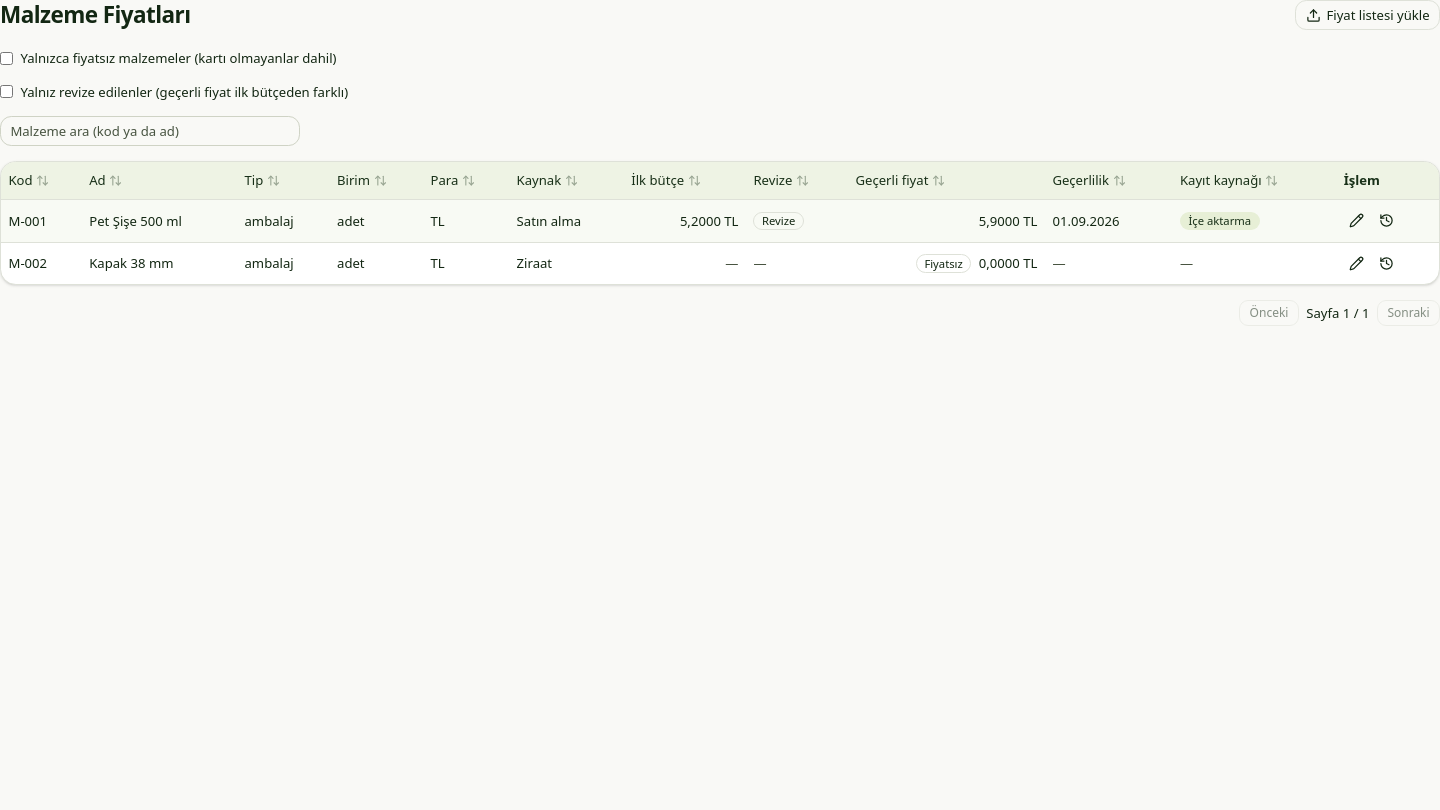
Test: MalzemeFiyatlari › neden boşsa fiyat gönderilmez
Step 1. Click the button named "Fiyat değiştir M-001" → (1357, 221), box [1344, 208, 1370, 234]
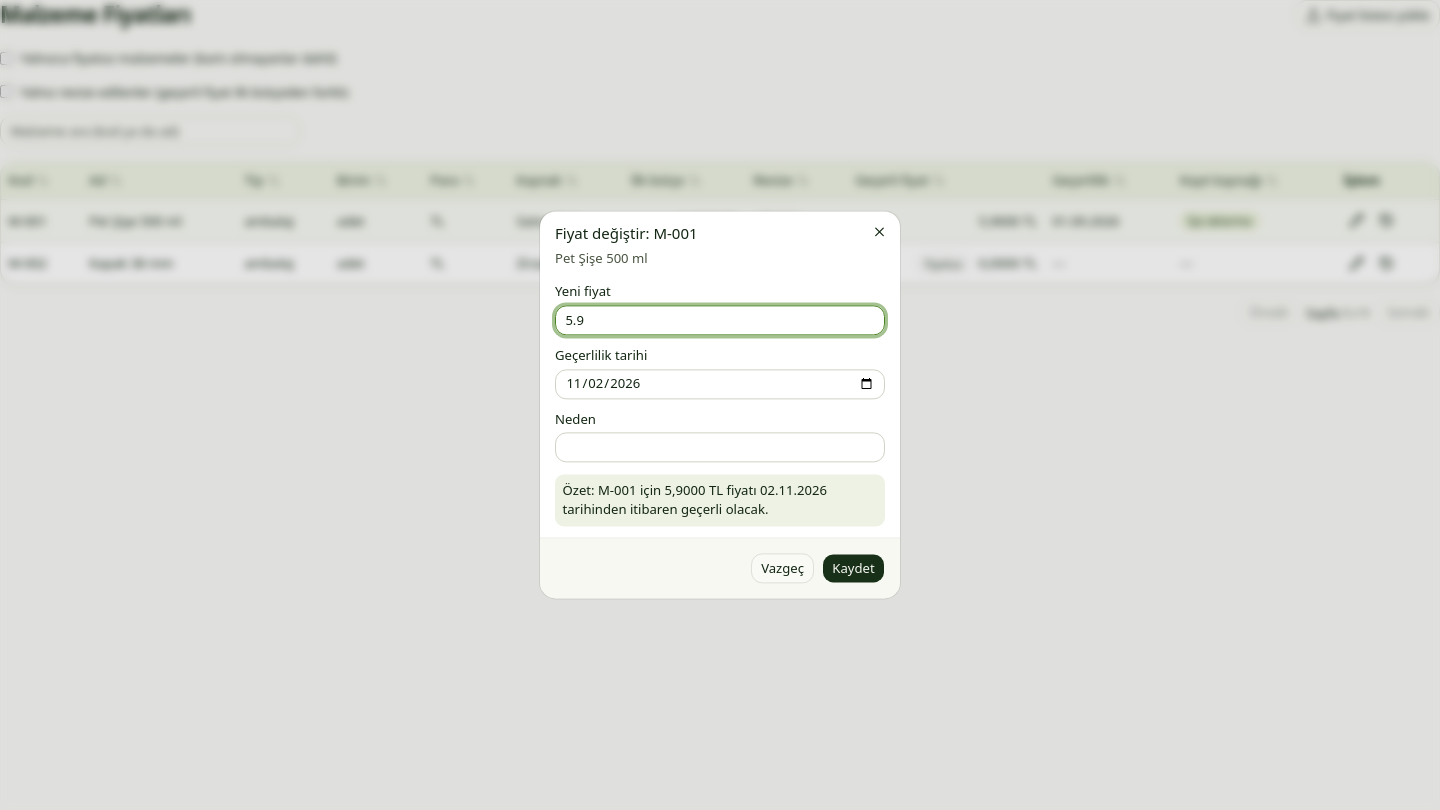
Step 2. Clear the field labelled "Yeni fiyat" → (720, 320), box [555, 305, 885, 335]
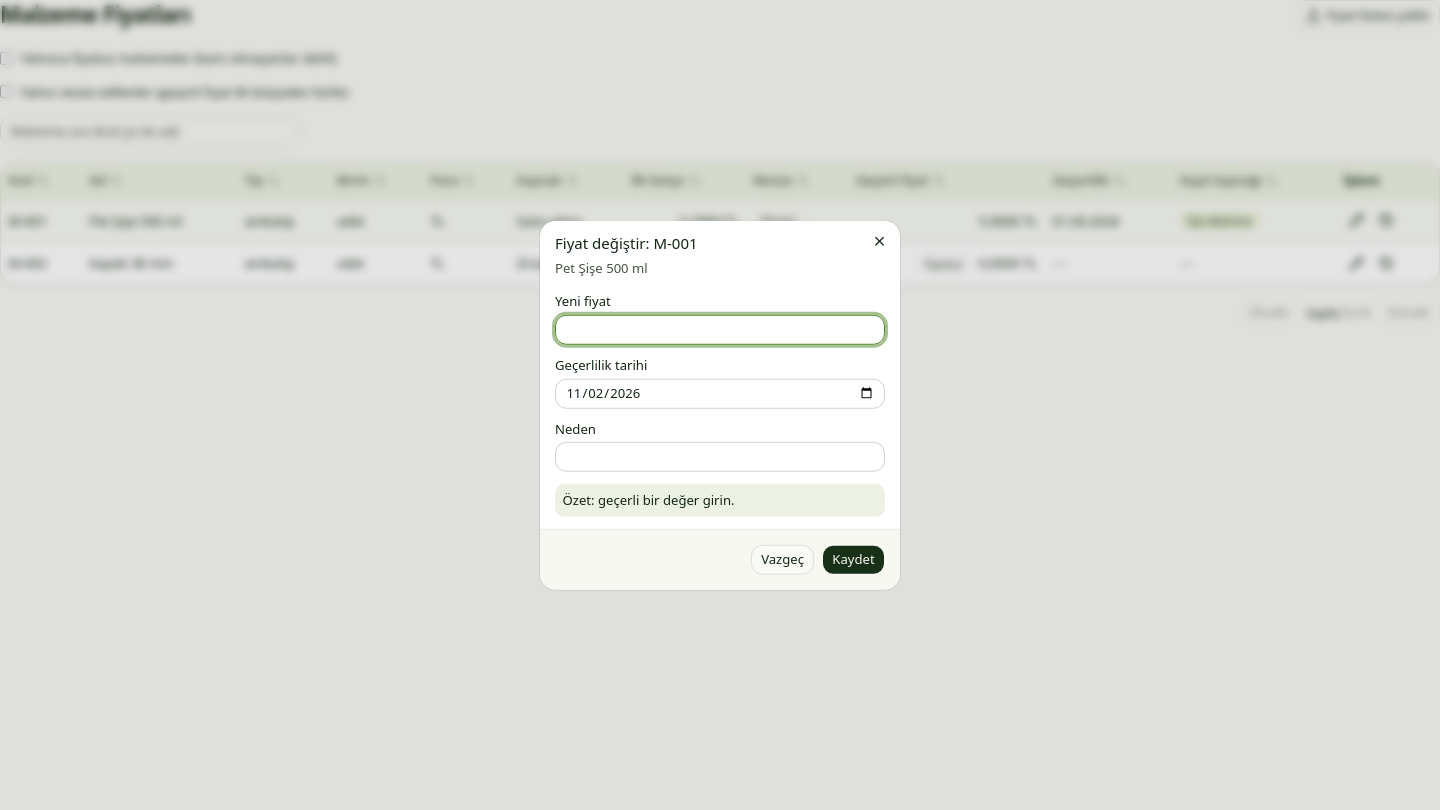
Step 3. Type "6,5" into the field labelled "Yeni fiyat" → (720, 330), box [555, 314, 885, 344]
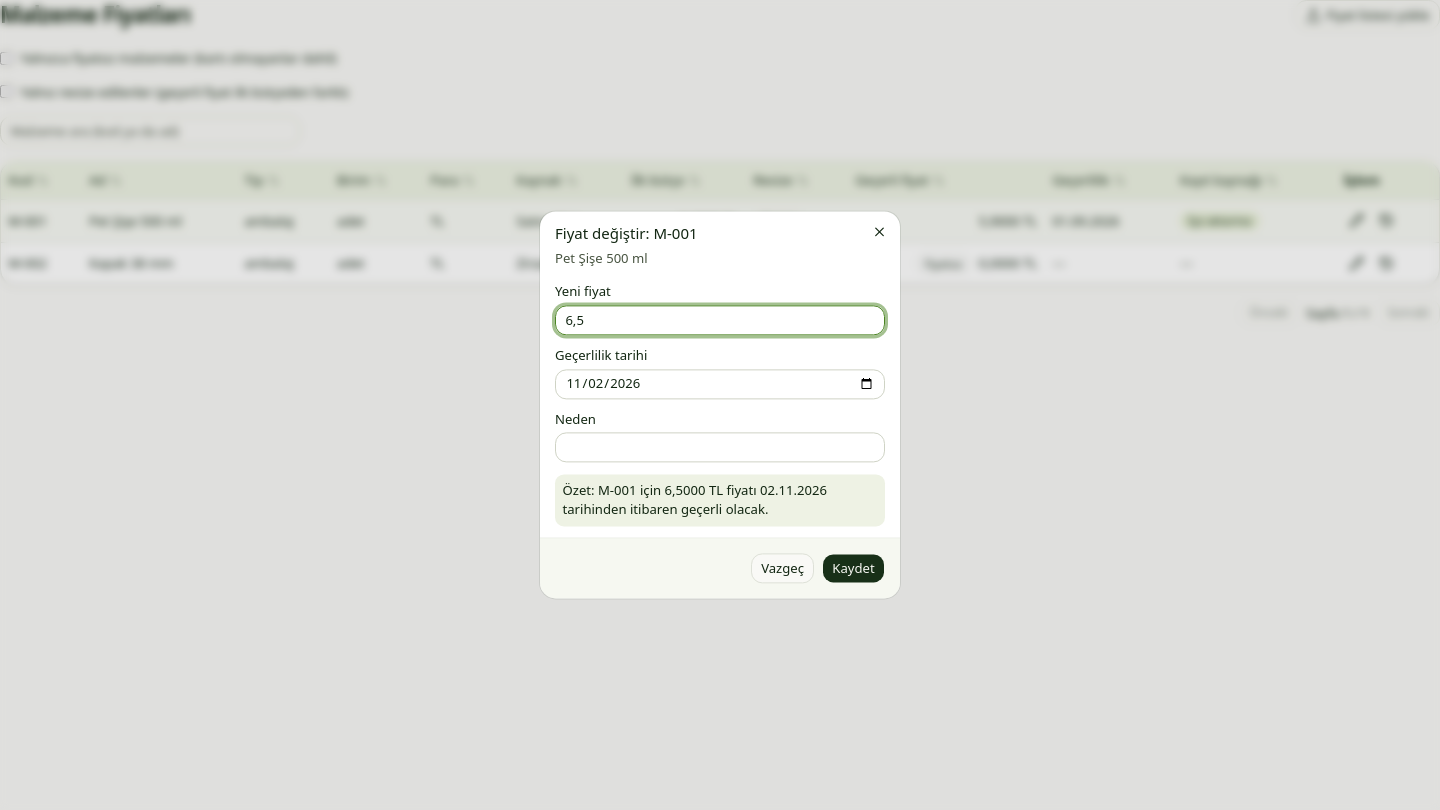
Step 4. Click the button "Kaydet" → (853, 569), box [822, 554, 885, 584]
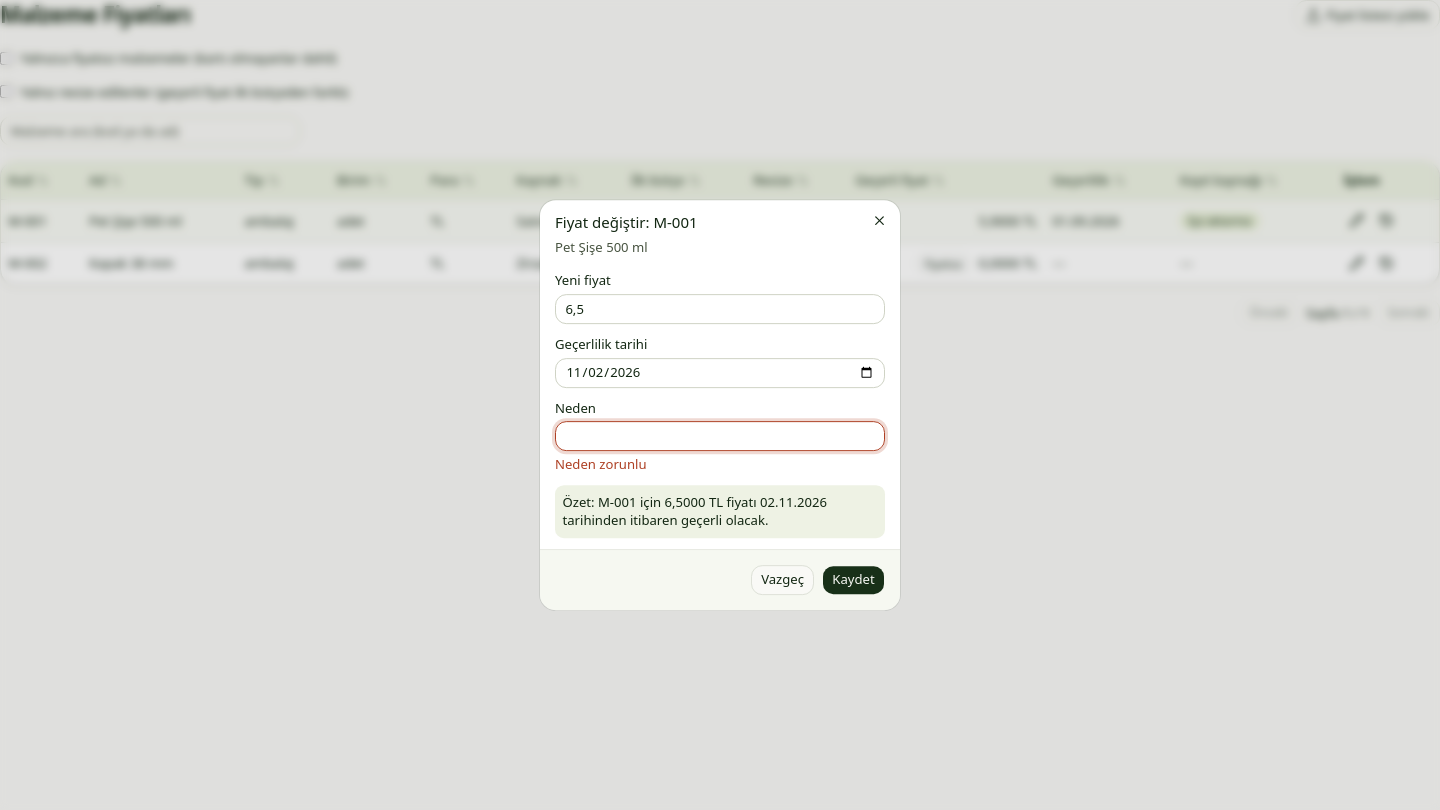
expect the text "Neden zorunlu" is shown: met, box [555, 455, 646, 473]
